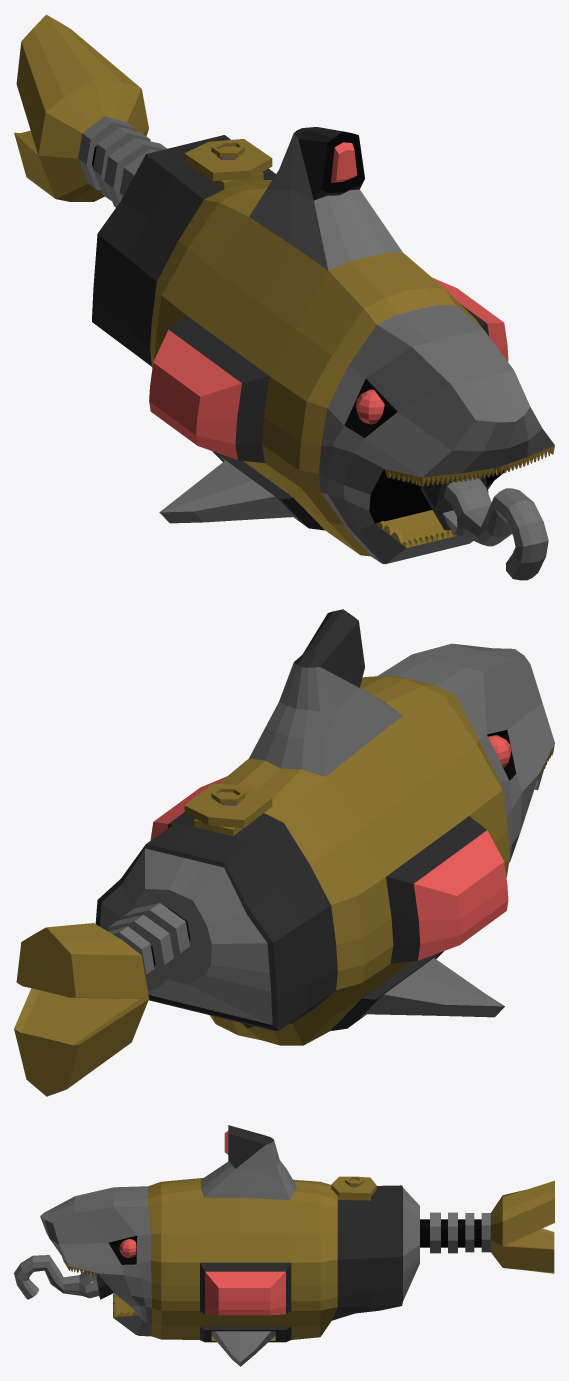
The model's file is Submarine-Shark.fbx.
3 renders of one model, top to bottom at view 1: azimuth 30°, elevation 25°; view 2: azimuth 150°, elevation 25°; view 3: azimuth 270°, elevation 25°, orthographic. The views are drawn at different scales.
Parts seen in each view (by area): view 1: Cube; view 2: Cube; view 3: Cube.
Part boxes in pixels (box(x1,y1,x2,y2)): Cube: box(14, 14, 554, 580); Cube: box(14, 609, 554, 1096); Cube: box(14, 1125, 554, 1366).
Bounding box in the file's own units: 201 × 209 × 496.
